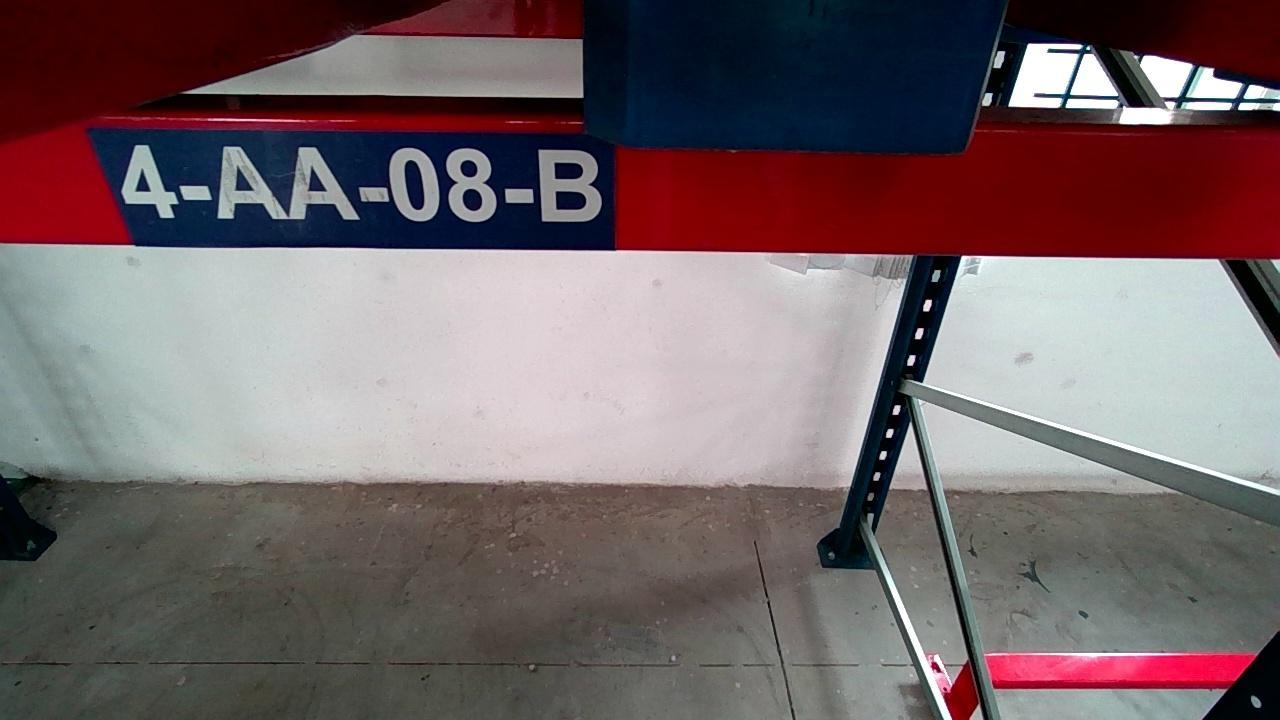h_rack: (1, 134, 1275, 248)
